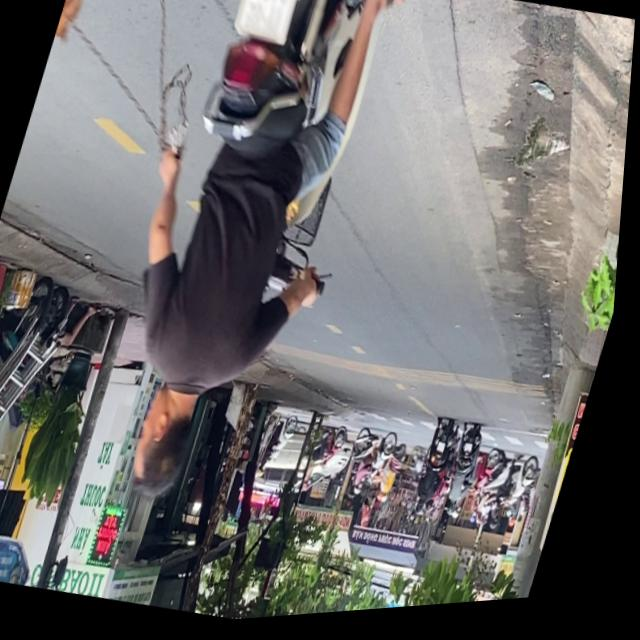licenseplate: (54, 0, 415, 532)
motorcyclist: (127, 381, 213, 505)
nohelmet: (228, 0, 302, 49)
